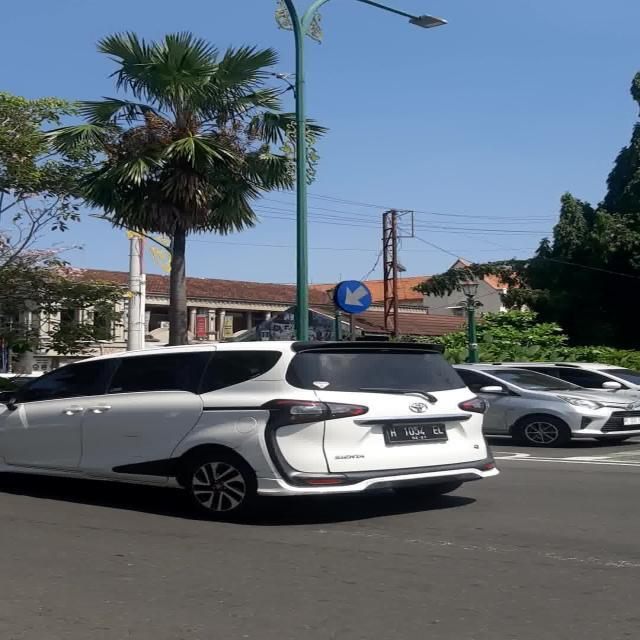Lajur Kiri: (338, 280, 370, 313)
